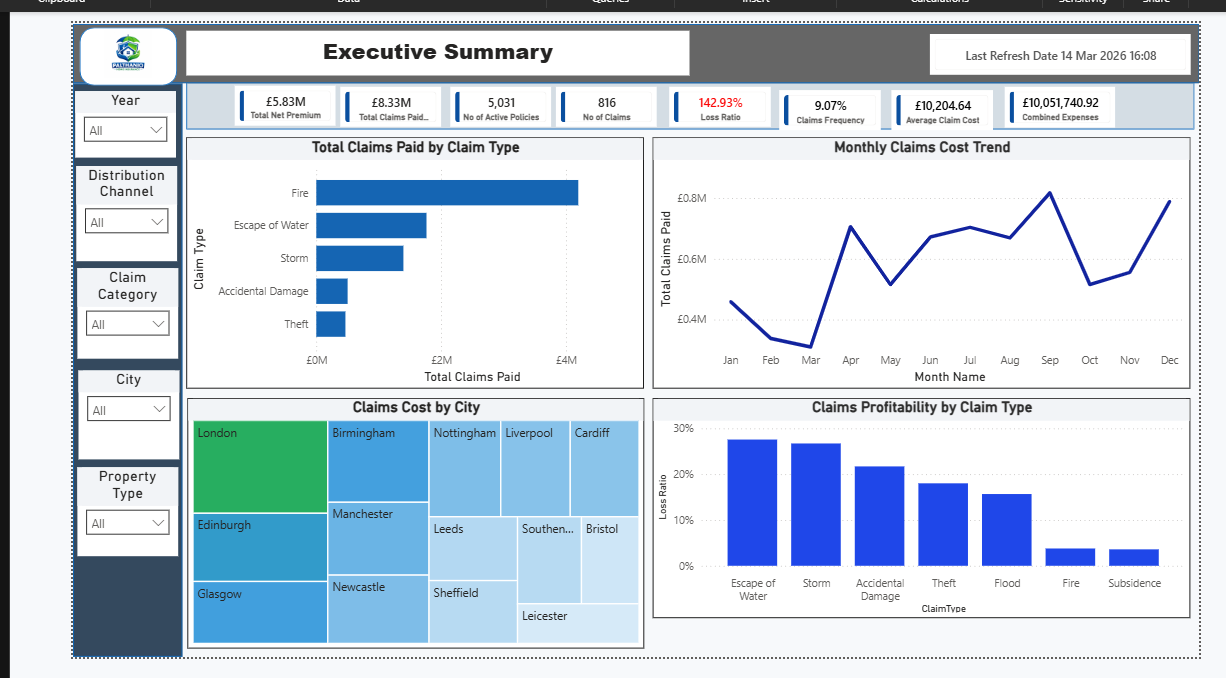

Layout of this report page (visuals, bound fields, positions):
{"tool":"powerbi","page":{"name":"Executive Summary","canvas":[1280,720],"ordinal":0},"visuals":[{"type":"group","id":"g1","title":"KPIs ","box":[129.1,67.8,1145.7,54.5],"z":0},{"type":"shape","title":"KPI Background","box":[129.1,67.8,1145.7,53.5],"z":0,"group":"g1"},{"type":"cardVisual","title":"Total Revenue","fields":{"Data":["_Measures.TotalNetPremium"]},"box":[183.7,71.5,114.2,45],"z":1000,"group":"g1"},{"type":"cardVisual","title":"Average Claim Cost","fields":{"Data":["_Measures.Combined Expenses"]},"box":[1058.8,72.5,125,46.2],"z":1000},{"type":"cardVisual","title":"Total Claims Paid","fields":{"Data":["_Measures.Total Claims Paid (Report)"]},"box":[303.7,72.6,114.2,45],"z":2000,"group":"g1"},{"type":"clusteredBarChart","title":"Total Claims Paid by Claim Type","fields":{"Category":["gold fact_claim_payments.ClaimType"],"Y":["_Measures.Total Claims Paid (Report)"]},"box":[128.9,130,520,285.6],"z":2000},{"type":"cardVisual","title":"Claims Frequency","fields":{"Data":["_Measures.Claims Frequency"]},"box":[803.3,75.9,115,45],"z":3000,"group":"g1"},{"type":"lineChart","title":"Monthly Claims Cost Trend","fields":{"Y":["_Measures.Total Claims Paid"],"Category":["gold dim_date.Month Name Short"]},"box":[658.9,130,611.1,285.6],"z":3000},{"type":"cardVisual","title":"Loss Ratio","fields":{"Data":["_Measures.Loss Ratio"]},"box":[677.5,72.6,115,45],"z":4000,"group":"g1"},{"type":"treemap","title":"Claims Cost by City","fields":{"Group":["gold dim_address.City"],"Values":["_Measures.Total Claims Paid (Report)"]},"box":[130,426.7,518.9,284.4],"z":4000},{"type":"cardVisual","title":"No. Of Active Policies","fields":{"Data":["_Measures.No of Active Policies"]},"box":[428.7,72.6,114.2,45],"z":5000,"group":"g1"},{"type":"clusteredColumnChart","title":"Claims Profitability by Claim Type","fields":{"Category":["gold dim_claim_type.ClaimType"],"Y":["_Measures.Loss Ratio"]},"box":[658.9,426.7,611.1,250],"z":5000},{"type":"shape","title":"Deep Blue Header ","box":[0,68.6,124.3,651.4],"z":6000},{"type":"cardVisual","title":"No. Of Claims","fields":{"Data":["_Measures.No of Claims"]},"box":[549.1,72.6,114.2,45],"z":6000,"group":"g1"},{"type":"shape","title":"Deep Blue Header ","box":[0,1.4,1280,67.1],"z":7000},{"type":"cardVisual","title":"Average Claim Cost","fields":{"Data":["_Measures.Average Claim Cost"]},"box":[930,76.8,115.6,45.6],"z":7000,"group":"g1"},{"type":"textbox","title":"Executive Summary","box":[129.2,8.5,571.5,50.8],"z":8000},{"type":"shape","title":"Logo Background","box":[6.9,5.4,110.8,66.2],"z":9000},{"type":"image","title":"Logo","box":[19.4,8.2,85.3,54.1],"z":10000},{"type":"slicer","title":"Year","fields":{"Values":["gold dim_date.YearNumber"]},"box":[2.7,77.3,114.5,75.5],"z":11000},{"type":"slicer","title":"Claim Category","fields":{"Values":["gold dim_claim_type.ClaimType"]},"box":[5.5,279.1,114.5,102.7],"z":12000},{"type":"slicer","title":"City","fields":{"Values":["gold dim_address.City"]},"box":[6.7,394.4,114.4,101.1],"z":13000},{"type":"slicer","title":"Distribution Channel","fields":{"Values":["gold dim_broker.Channel"]},"box":[3.6,162.7,114.5,108.2],"z":14000},{"type":"cardVisual","title":"Average Claim Cost","fields":{"Data":["_Measures.Last Refresh Date"]},"box":[973.3,12.2,296.7,46.7],"z":15000},{"type":"slicer","title":"Property Type","fields":{"Values":["gold dim_address.PropertyType"]},"box":[5.6,504.4,114.4,101.1],"z":16000}]}

Visuals, with their boxes on the page's 1280x720 design canvas (x1, y1, x2, y2). These are canvas units, not pixel positions in the 1226x678 screenshot, which may show the page scaled, cropped or inside an application window:
"KPIs " group: {"x1": 129, "y1": 68, "x2": 1275, "y2": 122}
"KPI Background" shape: {"x1": 129, "y1": 68, "x2": 1275, "y2": 121}
"Total Revenue" cardVisual: {"x1": 184, "y1": 72, "x2": 298, "y2": 116}
"Average Claim Cost" cardVisual: {"x1": 1059, "y1": 72, "x2": 1184, "y2": 119}
"Total Claims Paid" cardVisual: {"x1": 304, "y1": 73, "x2": 418, "y2": 118}
"Total Claims Paid by Claim Type" clusteredBarChart: {"x1": 129, "y1": 130, "x2": 649, "y2": 416}
"Claims Frequency" cardVisual: {"x1": 803, "y1": 76, "x2": 918, "y2": 121}
"Monthly Claims Cost Trend" lineChart: {"x1": 659, "y1": 130, "x2": 1270, "y2": 416}
"Loss Ratio" cardVisual: {"x1": 678, "y1": 73, "x2": 792, "y2": 118}
"Claims Cost by City" treemap: {"x1": 130, "y1": 427, "x2": 649, "y2": 711}
"No. Of Active Policies" cardVisual: {"x1": 429, "y1": 73, "x2": 543, "y2": 118}
"Claims Profitability by Claim Type" clusteredColumnChart: {"x1": 659, "y1": 427, "x2": 1270, "y2": 677}
"Deep Blue Header " shape: {"x1": 0, "y1": 69, "x2": 124, "y2": 720}
"No. Of Claims" cardVisual: {"x1": 549, "y1": 73, "x2": 663, "y2": 118}
"Deep Blue Header " shape: {"x1": 0, "y1": 1, "x2": 1280, "y2": 68}
"Average Claim Cost" cardVisual: {"x1": 930, "y1": 77, "x2": 1046, "y2": 122}
"Executive Summary" textbox: {"x1": 129, "y1": 8, "x2": 701, "y2": 59}
"Logo Background" shape: {"x1": 7, "y1": 5, "x2": 118, "y2": 72}
"Logo" image: {"x1": 19, "y1": 8, "x2": 105, "y2": 62}
"Year" slicer: {"x1": 3, "y1": 77, "x2": 117, "y2": 153}
"Claim Category" slicer: {"x1": 6, "y1": 279, "x2": 120, "y2": 382}
"City" slicer: {"x1": 7, "y1": 394, "x2": 121, "y2": 496}
"Distribution Channel" slicer: {"x1": 4, "y1": 163, "x2": 118, "y2": 271}
"Average Claim Cost" cardVisual: {"x1": 973, "y1": 12, "x2": 1270, "y2": 59}
"Property Type" slicer: {"x1": 6, "y1": 504, "x2": 120, "y2": 606}
